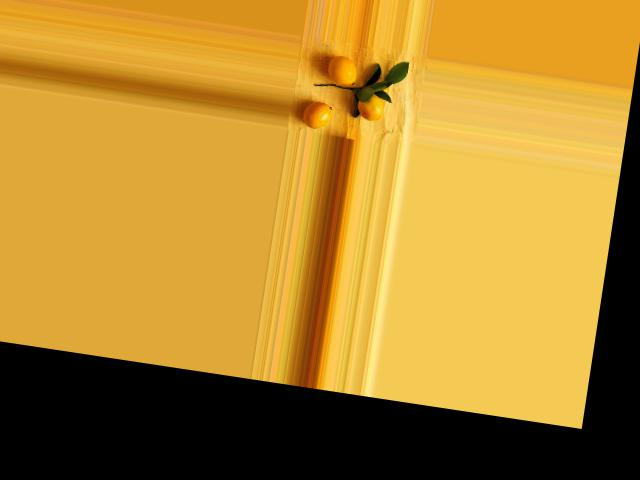lemon: (296, 96, 336, 131)
